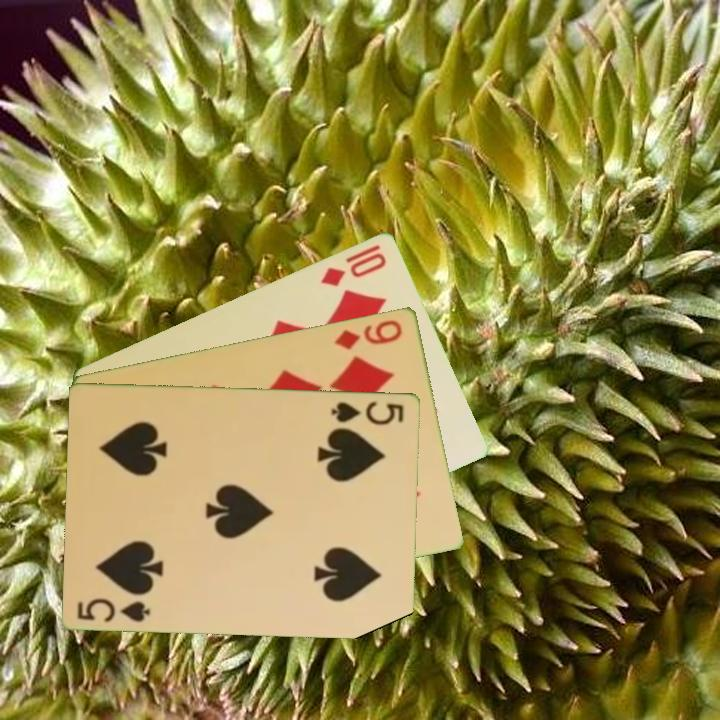10d: (317, 240, 390, 289)
5s: (74, 594, 154, 625), (328, 397, 407, 427)
9d: (330, 315, 405, 352)
